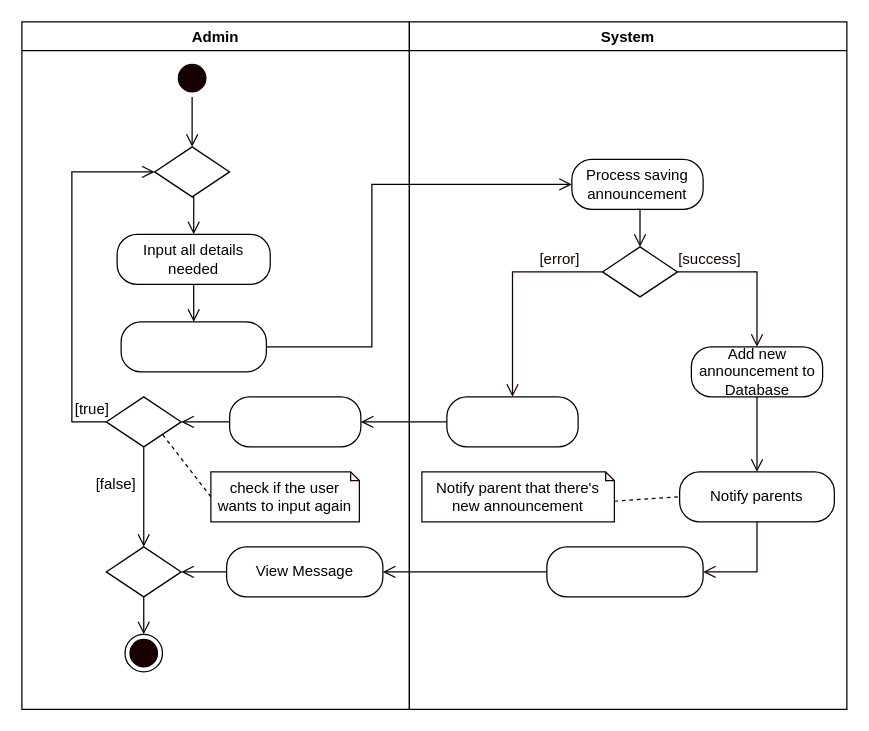
The diagram is 869 pixels wide and 731 high, and some of its shapes have lost their labels. The centre of each missing label's shape, as x and y in pixels:
"Show error message" goes at point (512, 421).
"Show message new announcement added" goes at point (624, 571).
"Submit new announcements" goes at point (193, 346).
"View error message" goes at point (294, 421).
